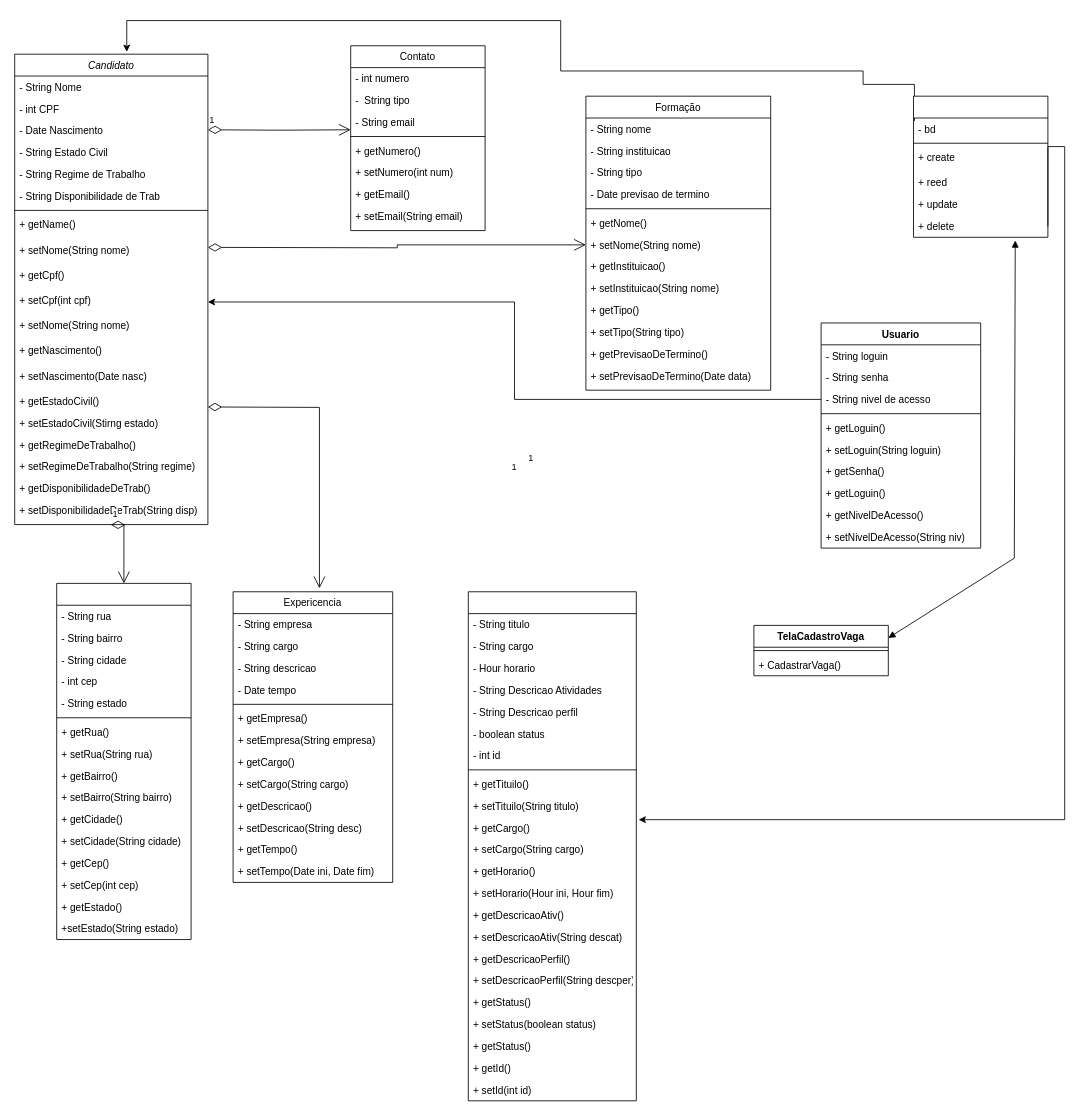
The diagram is 1086 pixels wide and 1118 high, and some of its shapes have lost their labels. The shapes that lost their labels are listed below. From the top down, each one's box as (x1, y1, x2, y2) in pixels, then its label:
(913, 95, 1048, 237): Modelo
(56, 583, 191, 940): Endereço
(467, 591, 636, 1101): Vaga
